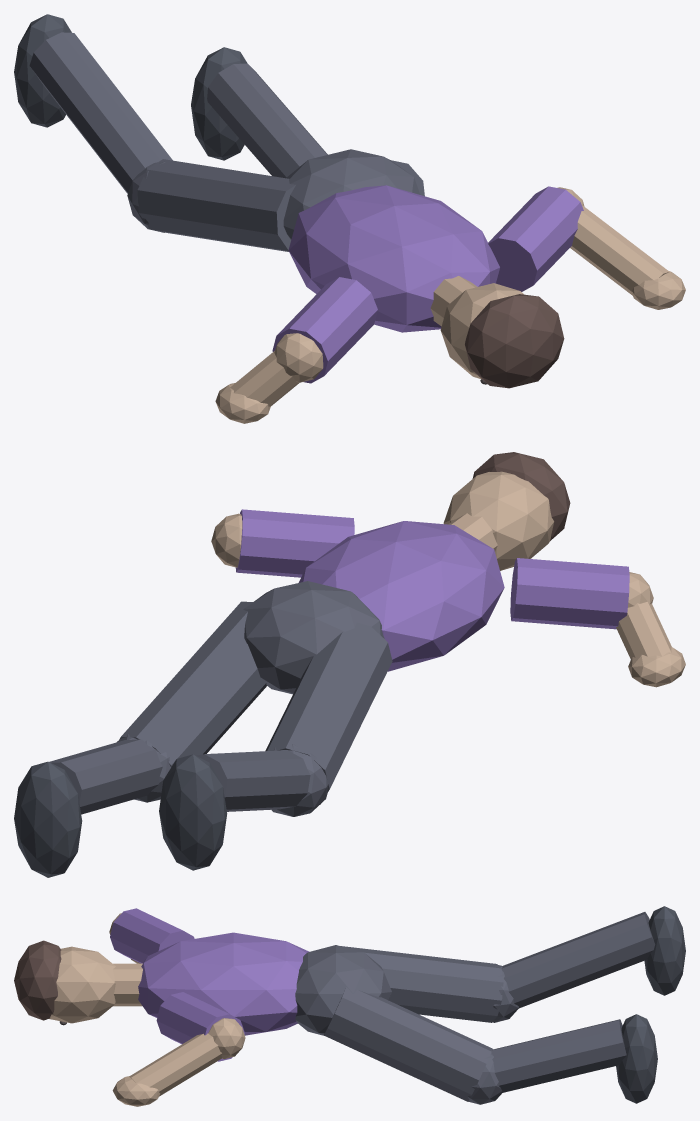
3 views of the same model, one above another, from view 1: azimuth 30°, elevation 25°; view 2: azimuth 150°, elevation 25°; view 3: azimuth 270°, elevation 25° (orthographic). The views are drawn at different scales.
Visible parts, largest first — view 1: world; view 2: world; view 3: world.
Part boxes in pixels (x1,y1,x2,y2): world: (14, 14, 685, 423); world: (14, 452, 685, 877); world: (14, 906, 685, 1106).
Bounding box in the file's own units: 1.25 × 0.4556 × 2.04.
